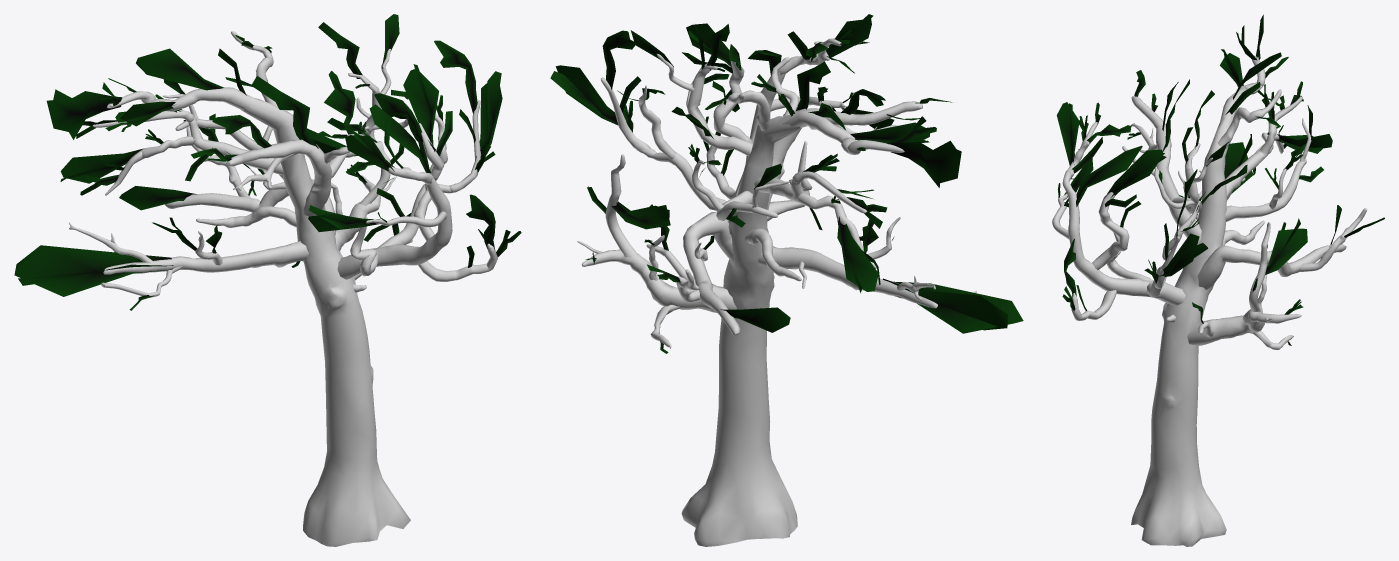
File: WhiteBarkPineRHEP_A.fbx
3 views of the same model, side by side, from view 1: azimuth 30°, elevation 25°; view 2: azimuth 150°, elevation 25°; view 3: azimuth 270°, elevation 25° (orthographic). The views are drawn at different scales.
Parts seen in each view (by area): view 1: WBPRHEPBarkA_LOD0, WBPRHEPLeavesA_LOD0; view 2: WBPRHEPBarkA_LOD0, WBPRHEPLeavesA_LOD0; view 3: WBPRHEPBarkA_LOD0, WBPRHEPLeavesA_LOD0.
Boxes of the visible parts, left/top/right/bottom form: WBPRHEPBarkA_LOD0: left=69, top=31, right=497, bottom=546; WBPRHEPLeavesA_LOD0: left=14, top=14, right=521, bottom=310; WBPRHEPBarkA_LOD0: left=577, top=38, right=976, bottom=546; WBPRHEPLeavesA_LOD0: left=550, top=14, right=1023, bottom=353; WBPRHEPBarkA_LOD0: left=1052, top=55, right=1367, bottom=546; WBPRHEPLeavesA_LOD0: left=1056, top=14, right=1384, bottom=345.
Size of what is drawn, in the model's own units: 12.75 by 13.03 by 9.01.
